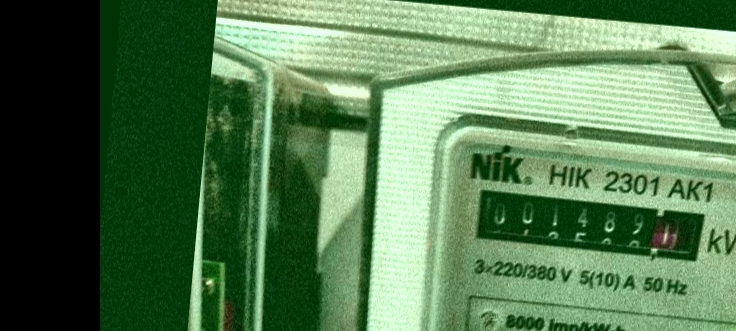0: (518, 198, 536, 224), (491, 199, 508, 225)
1: (547, 199, 563, 229), (658, 216, 672, 246)
4: (574, 203, 592, 230)
8: (600, 205, 619, 234)
9: (629, 210, 646, 236)
screen: (459, 177, 721, 276)
